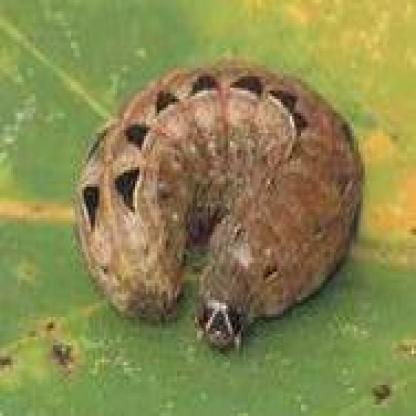armyworm: (67, 50, 366, 369)
